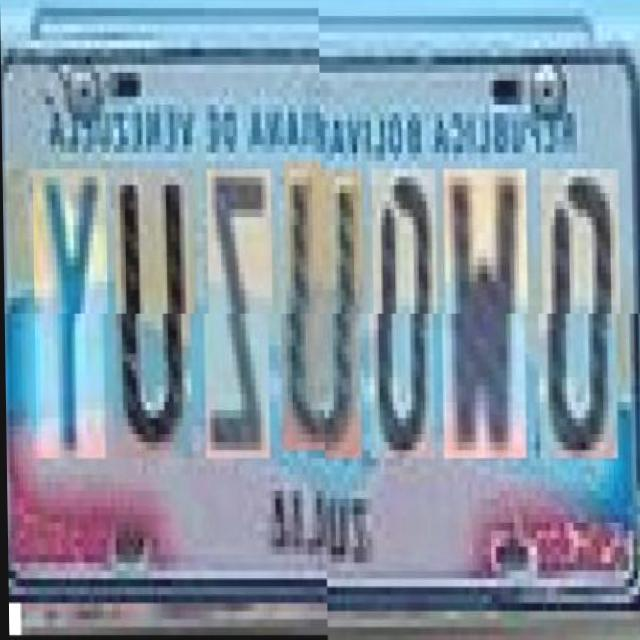0: (534, 168, 617, 458), (365, 168, 434, 458)
u: (110, 176, 192, 466), (279, 168, 360, 458)
w: (439, 168, 525, 458)
y: (28, 176, 104, 466)
z: (201, 176, 269, 466)
